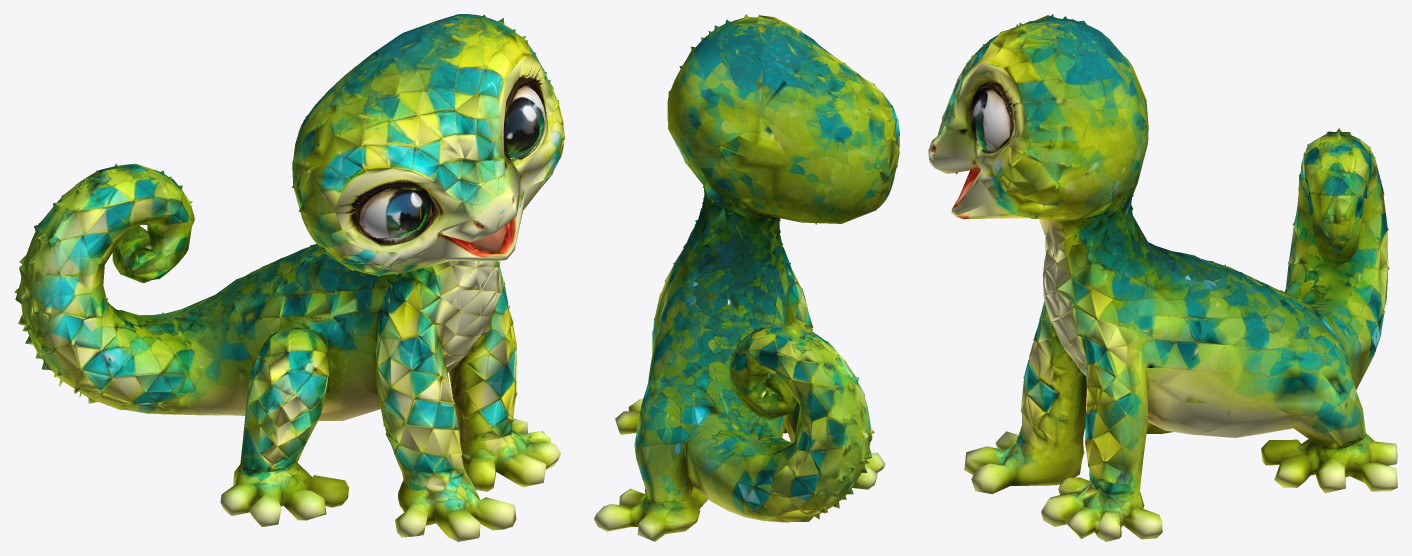
File: tesselgecko.glb
3 views of the same model, side by side, from view 1: azimuth 30°, elevation 25°; view 2: azimuth 150°, elevation 25°; view 3: azimuth 270°, elevation 25° (orthographic). The views are drawn at different scales.
Visible parts, largest first — view 1: node_0; view 2: node_0; view 3: node_0.
Part boxes in pixels (x1,y1,x2,y2): node_0: (14,14,565,541); node_0: (594,14,899,541); node_0: (928,14,1397,541).
Size of the model in its own units: 0.8754 by 1 by 0.9147.
Materials: 1 (1 with a texture image).
